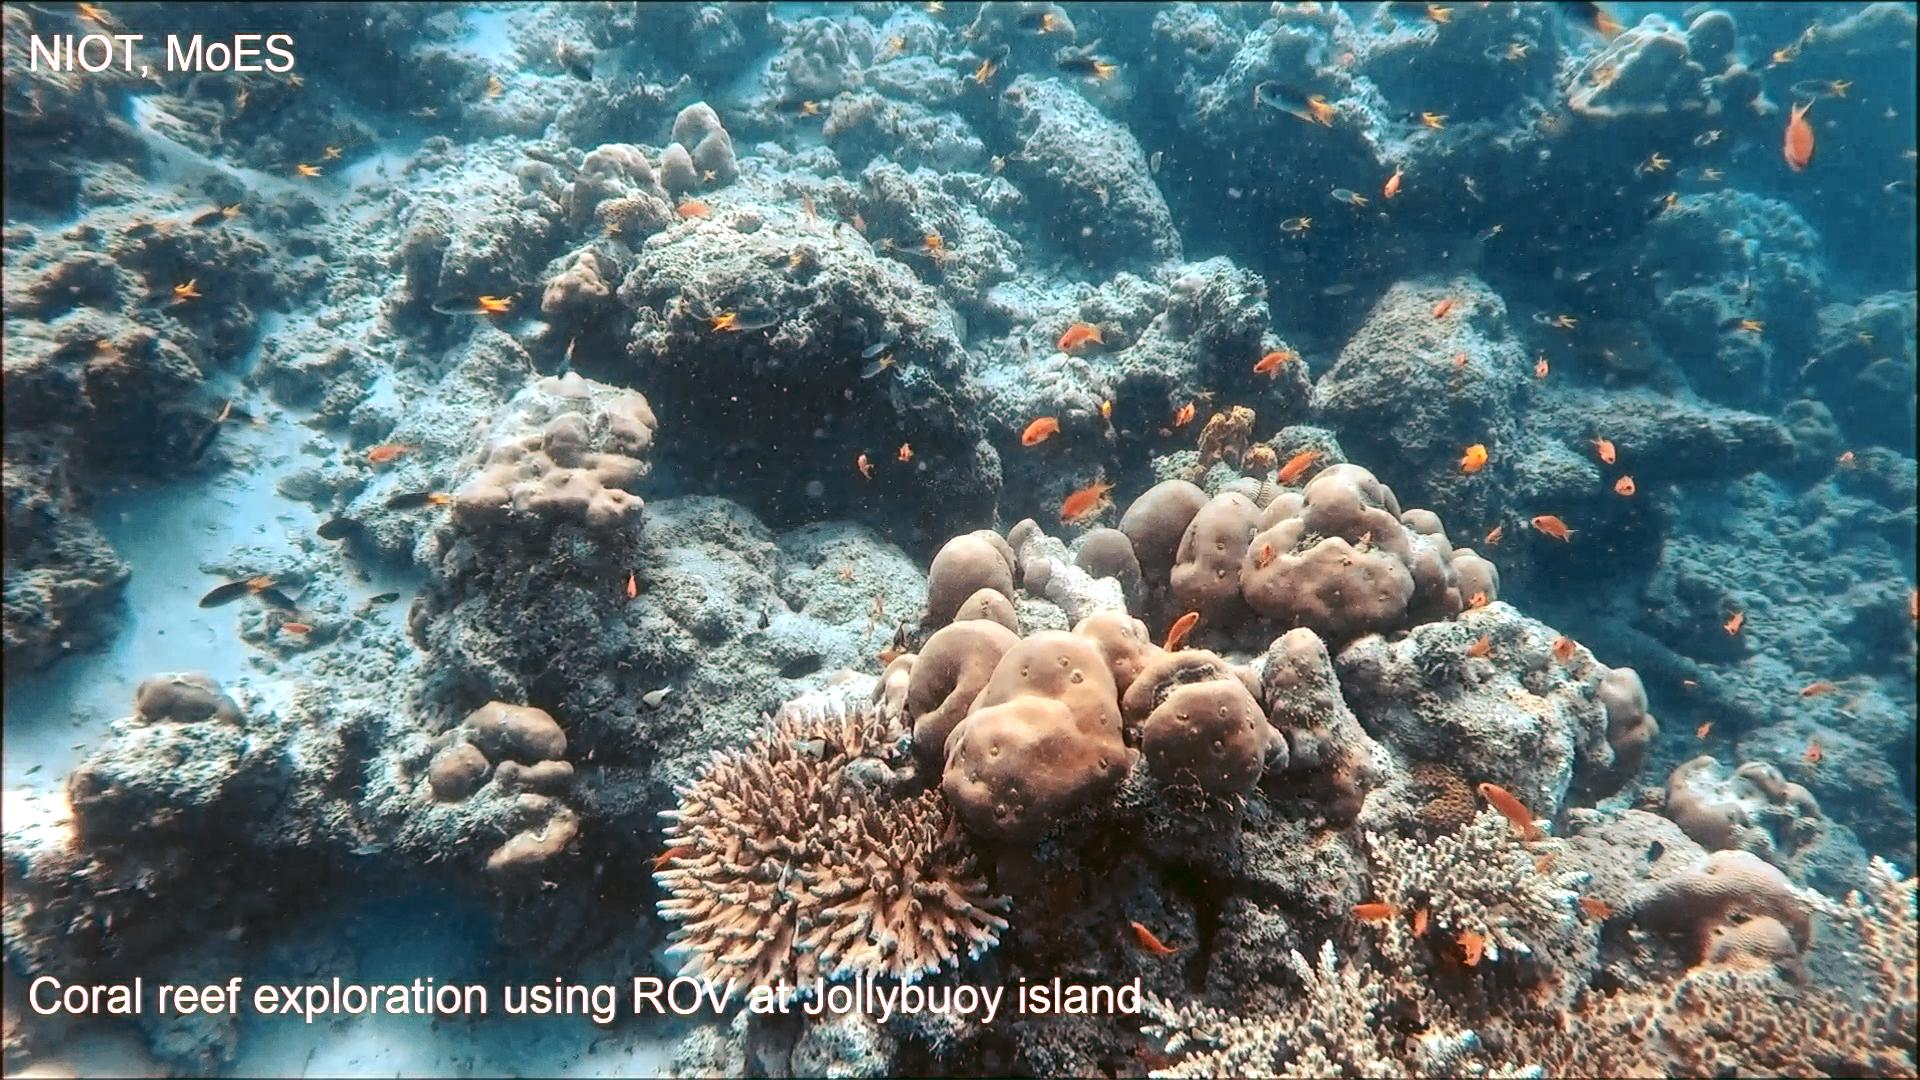Porites-Porites pukoensis: (902, 517, 1280, 849), (1109, 452, 1515, 658), (444, 367, 665, 539)
